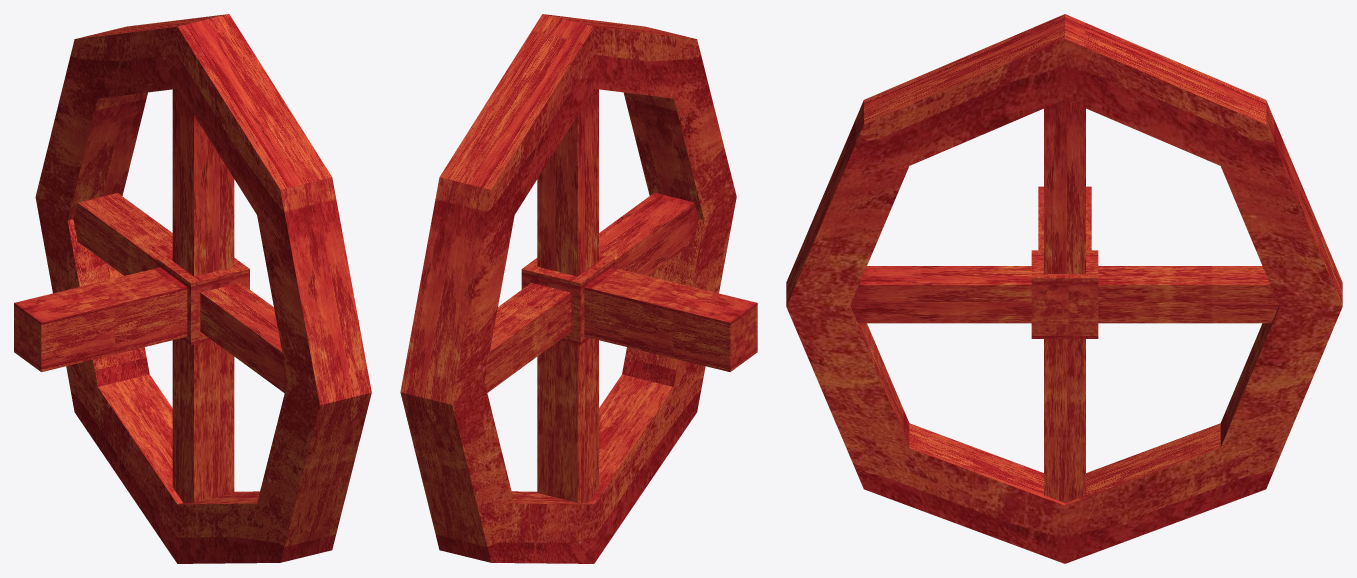
The model's file is Handle.fbx.
3 renders of one model, left to right at view 1: azimuth 30°, elevation 25°; view 2: azimuth 150°, elevation 25°; view 3: azimuth 270°, elevation 25°, orthographic. The views are drawn at different scales.
Parts seen in each view (by area): view 1: Cube.004; view 2: Cube.004; view 3: Cube.004.
Part boxes in pixels (left/top/right/bottom): Cube.004: left=14, top=14, right=371, bottom=563; Cube.004: left=400, top=14, right=757, bottom=563; Cube.004: left=786, top=14, right=1342, bottom=563.
Size of the model in its own units: 115 by 288 by 276.
